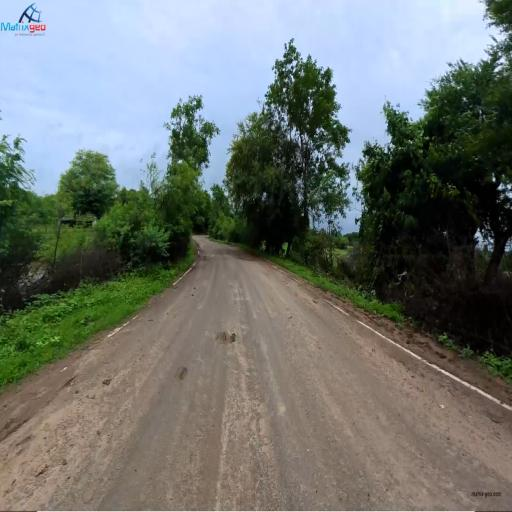ravelling: (233, 376, 275, 485)
